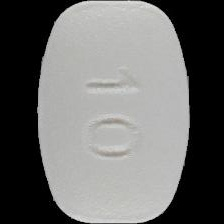16571-402: (0, 0, 224, 224)
